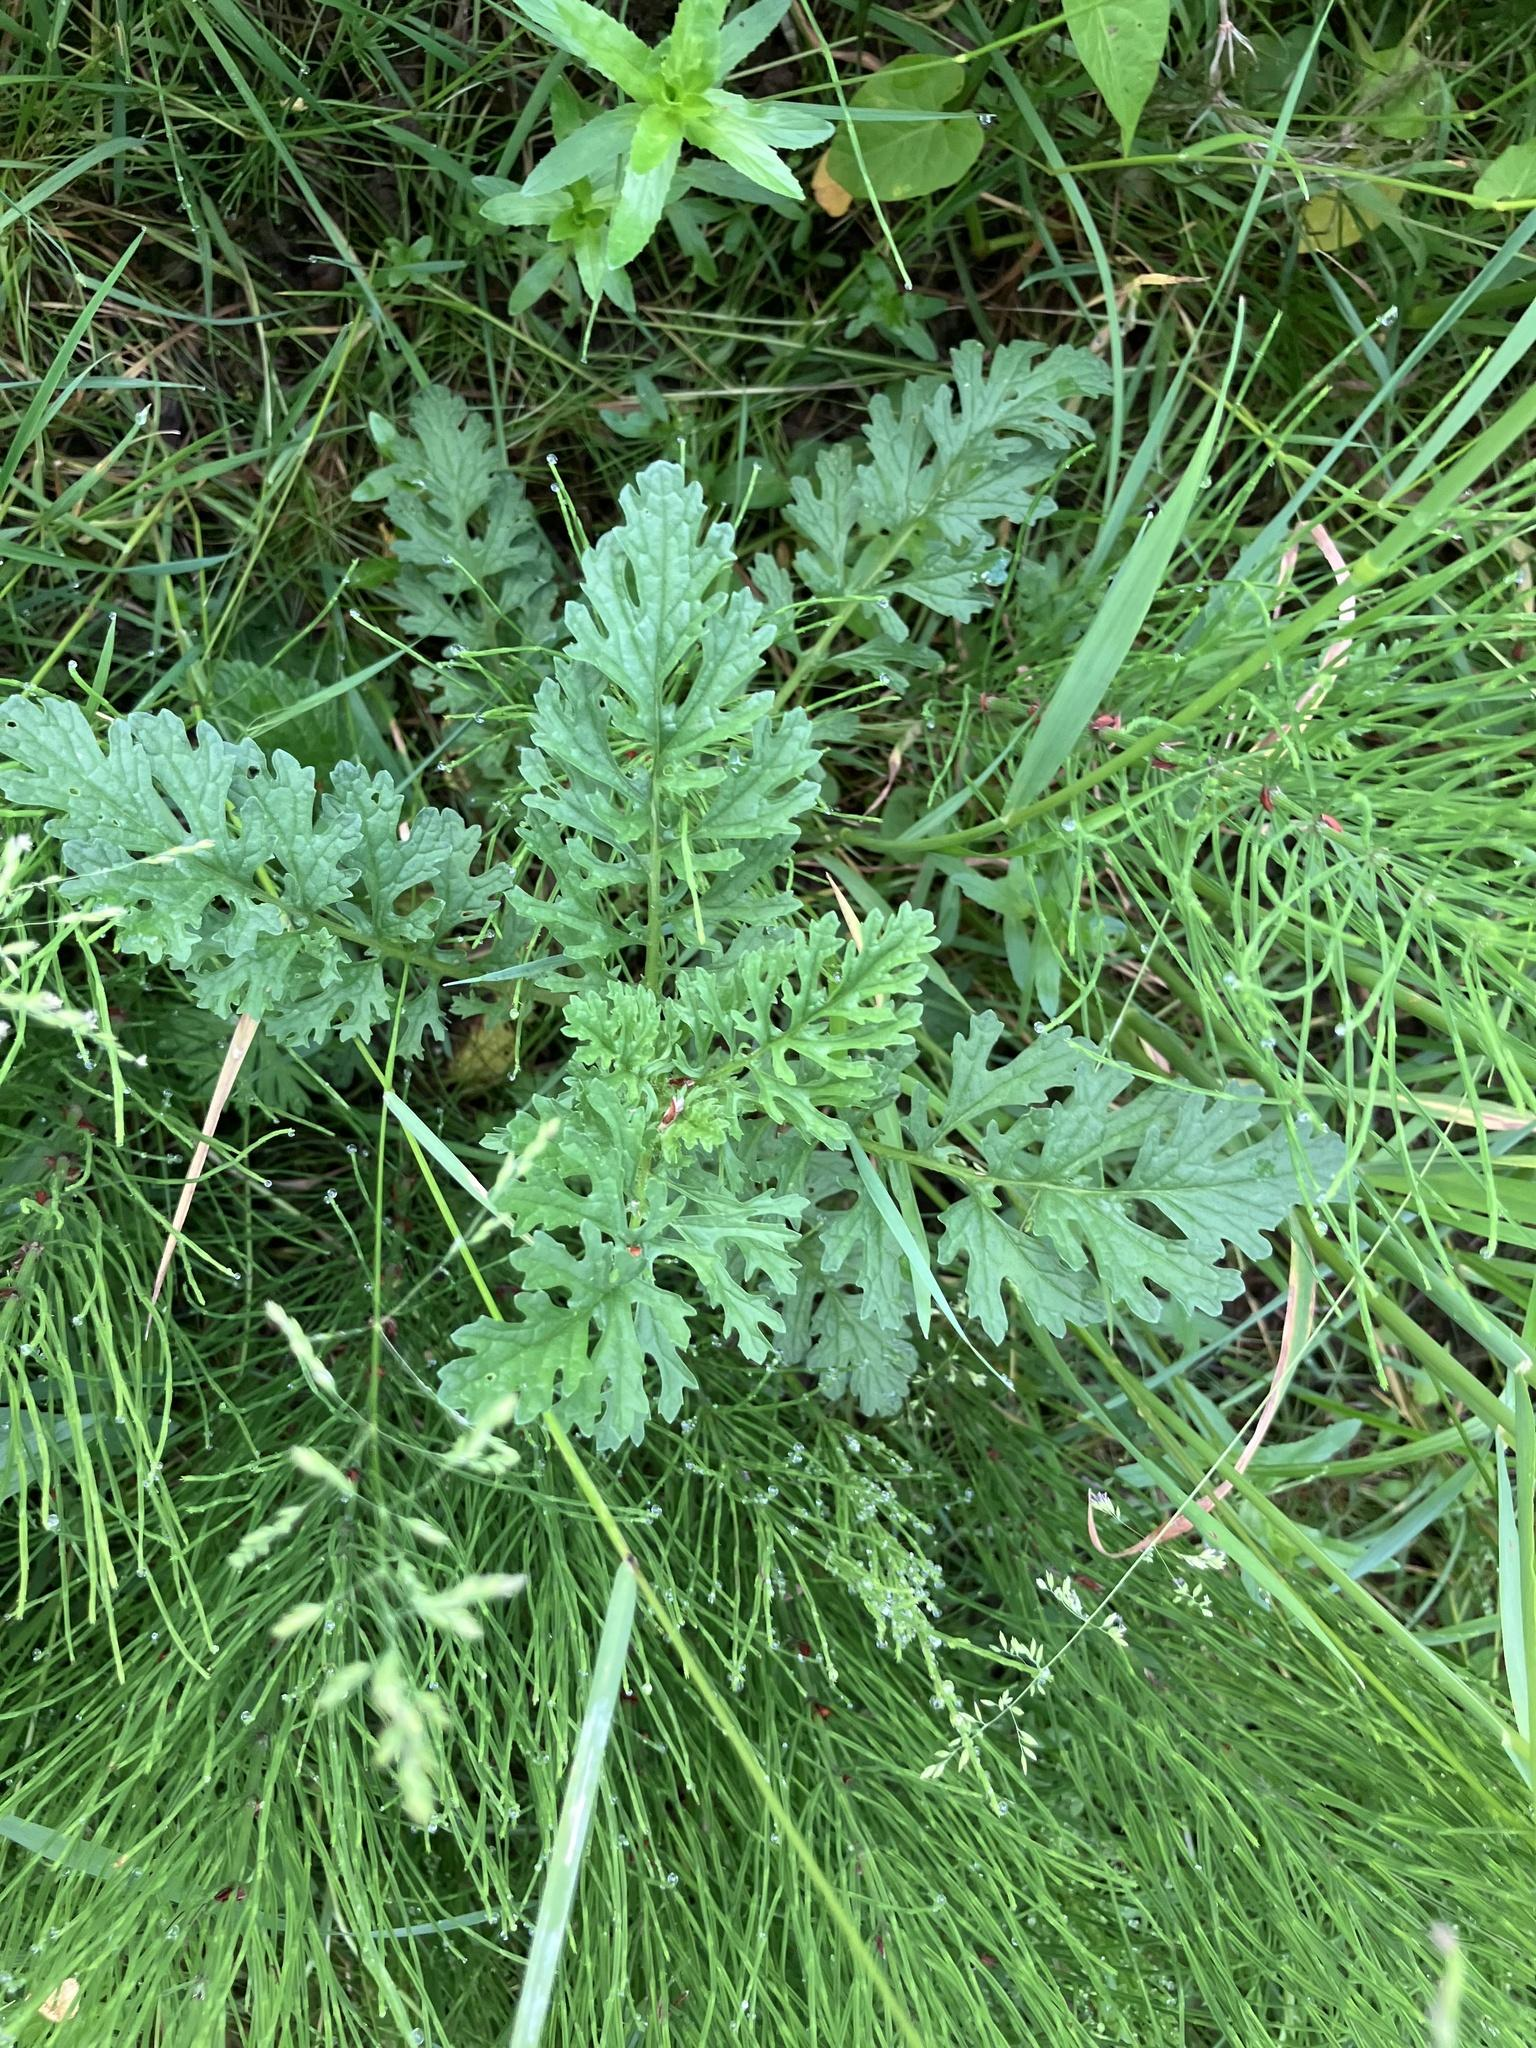Jacobaea vulgaris: (0, 324, 1373, 1467)
